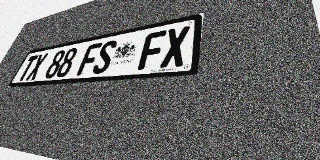8: (54, 47, 80, 78), (43, 49, 67, 79)
F: (137, 30, 167, 70), (76, 42, 103, 76)
S: (91, 39, 118, 74)
T: (16, 55, 39, 81)
X: (160, 25, 190, 68), (25, 53, 49, 80)
